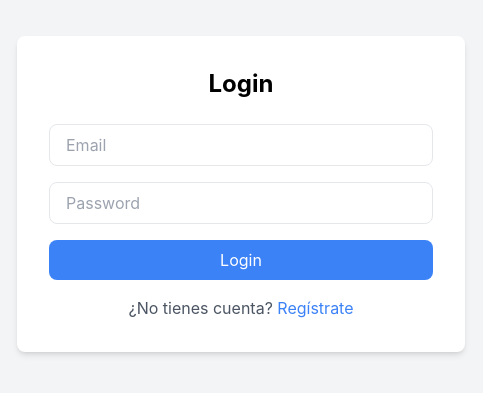
Test: LoginPage › muestra error si login falla
Type "wrong@example.com" into the field with placeholder "Email" at (241, 145), box [49,124,433,166]
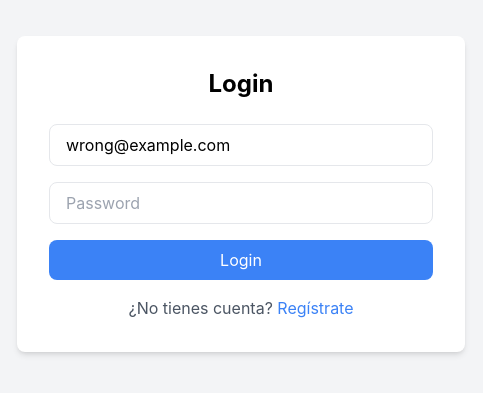
Type "wrongpass" into the password field with placeholder "Password" at (241, 203), box [49,182,433,224]
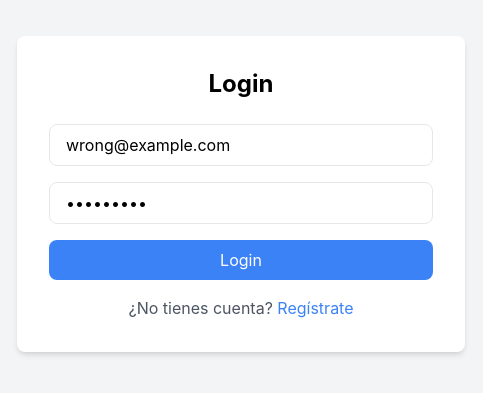
Click the button "Login" at (241, 260), box [49,240,433,280]
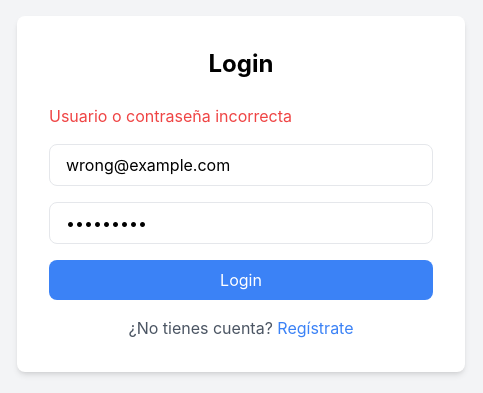
Now the text "Usuario o contraseña incorrecta" is shown, box [49,106,292,126]
